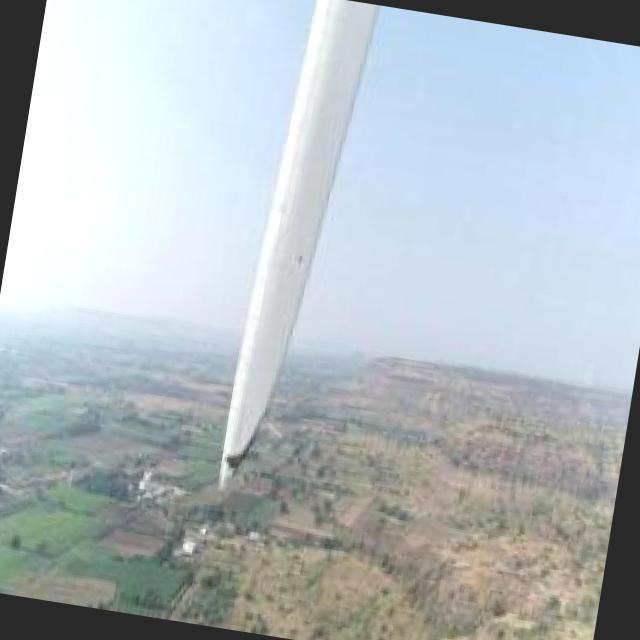Oil LEAKAGE: (227, 408, 266, 469)
Pin Hole: (291, 250, 306, 269)
